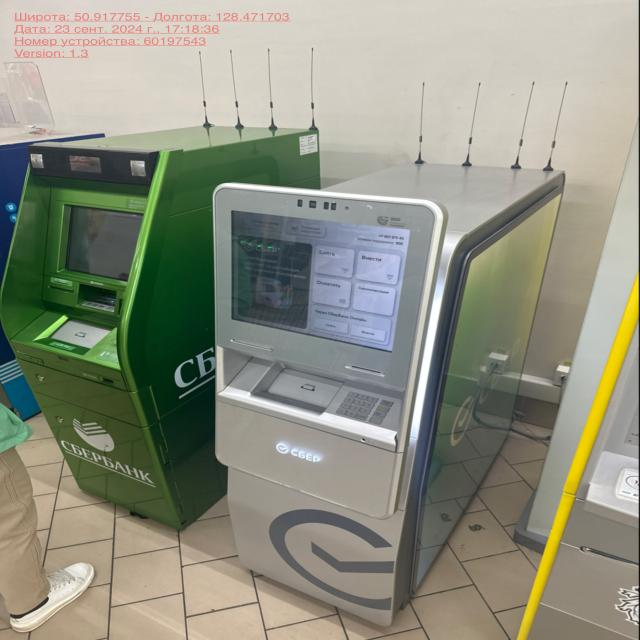bank: (214, 165, 567, 622), (9, 121, 319, 528)
